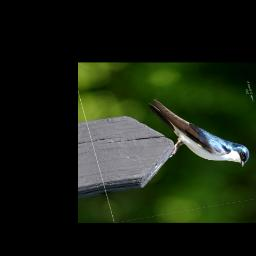Swallow: (146, 85, 253, 180)
